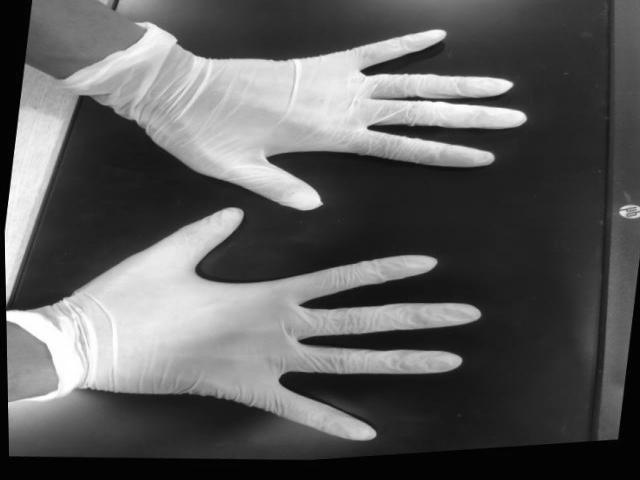gloved: (86, 210, 472, 440), (186, 28, 522, 213)
